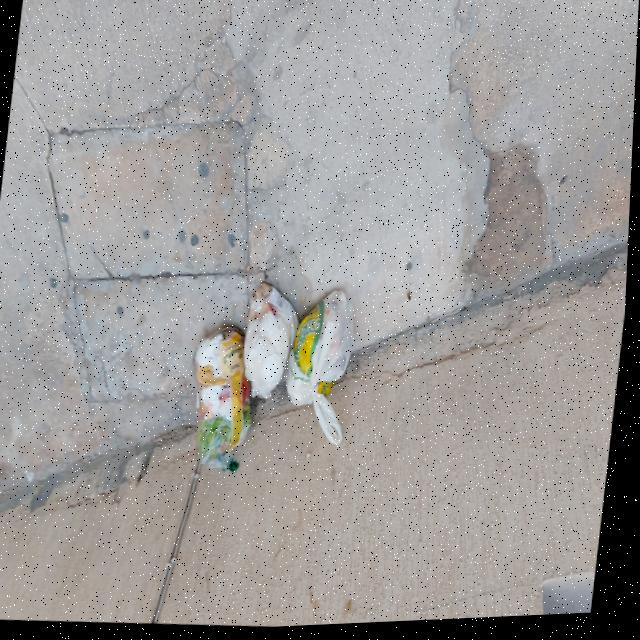Organic Waste -White Bag-: (282, 282, 366, 458), (184, 321, 266, 480), (241, 275, 305, 408)
